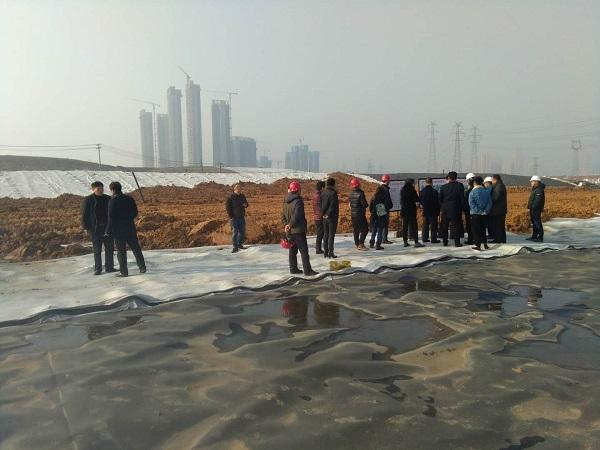helmet: (282, 238, 295, 252), (292, 182, 303, 192), (532, 175, 542, 185), (466, 172, 476, 181), (352, 180, 362, 188), (383, 176, 392, 184), (484, 178, 495, 184)
